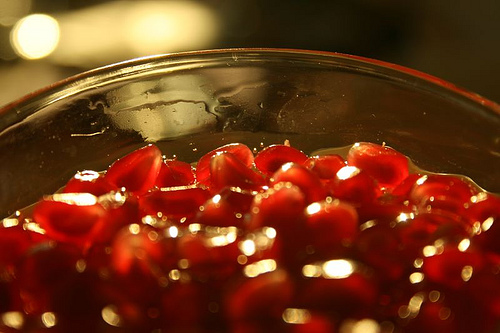pomogranate: (3, 136, 499, 332)
